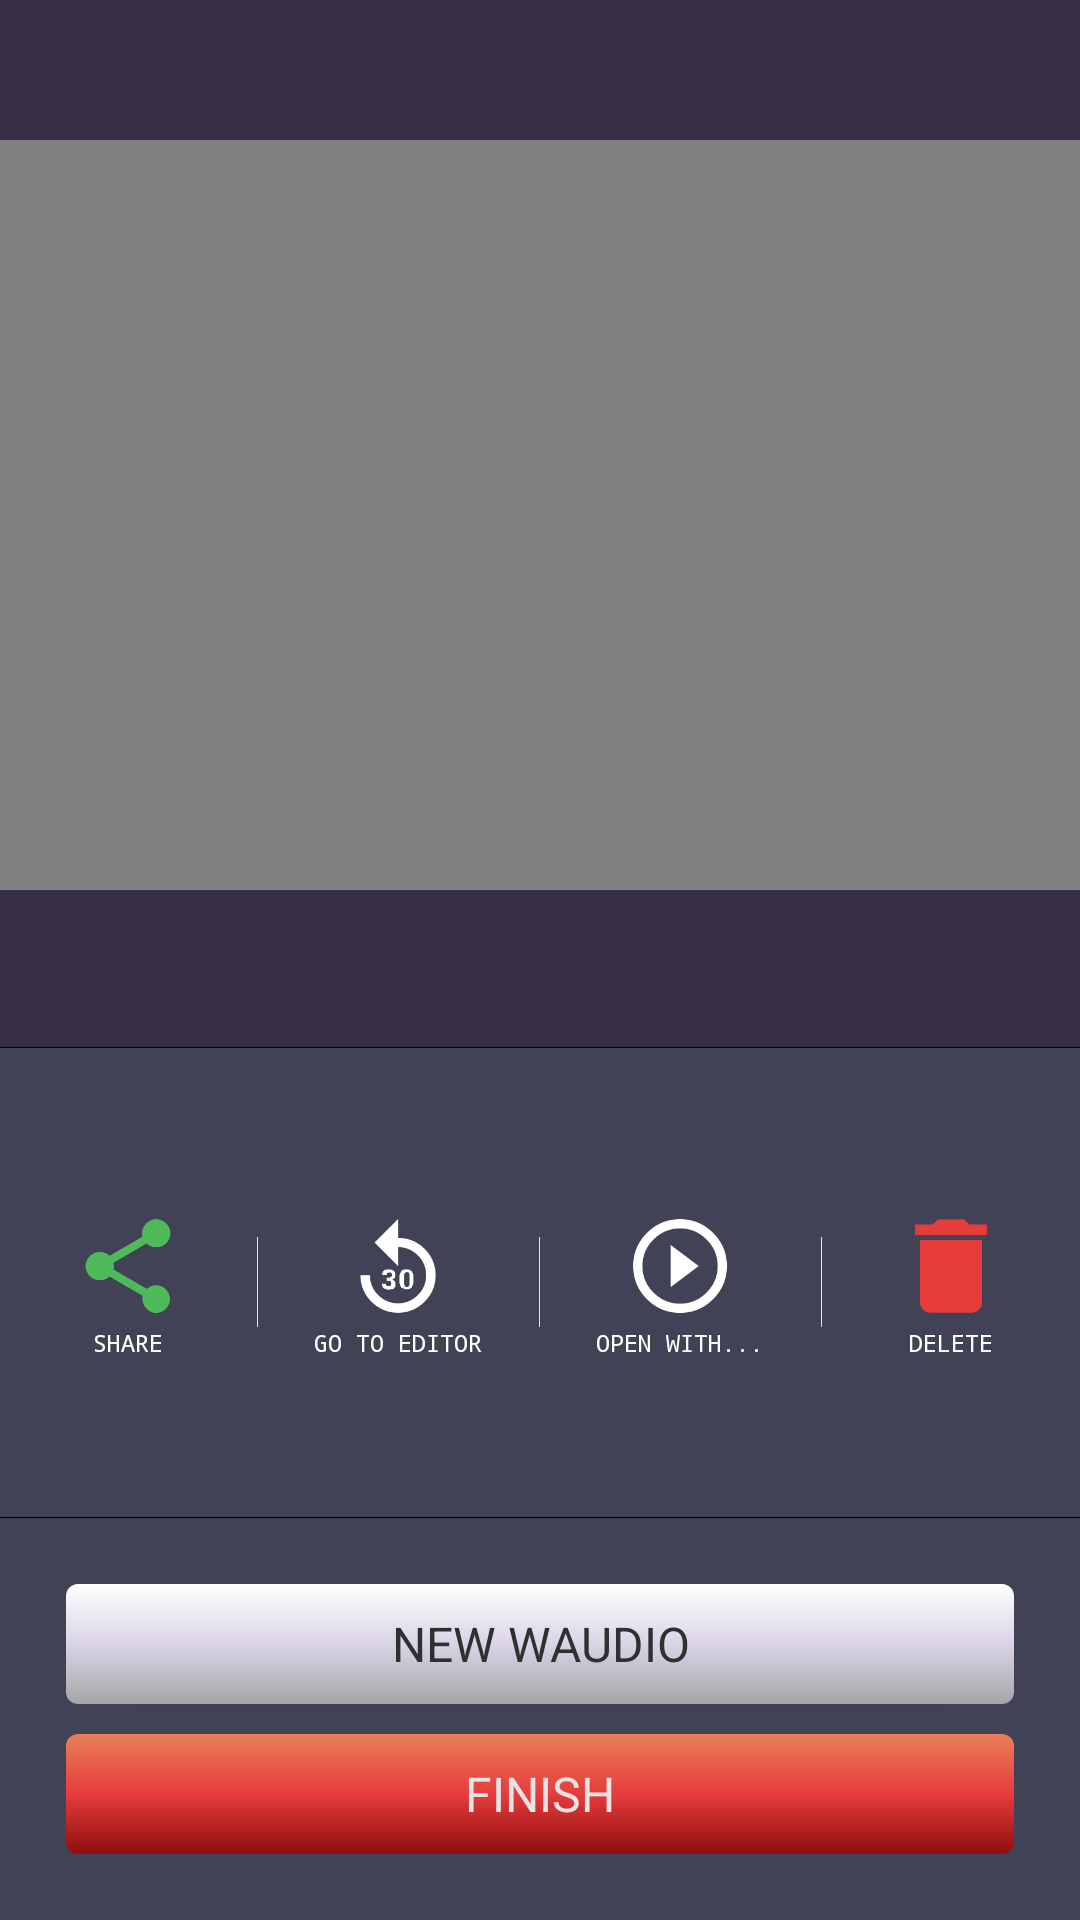

Point at icon controls on the screen. Image size 1080x1920, points as [x,y].
play: [680,1266]
